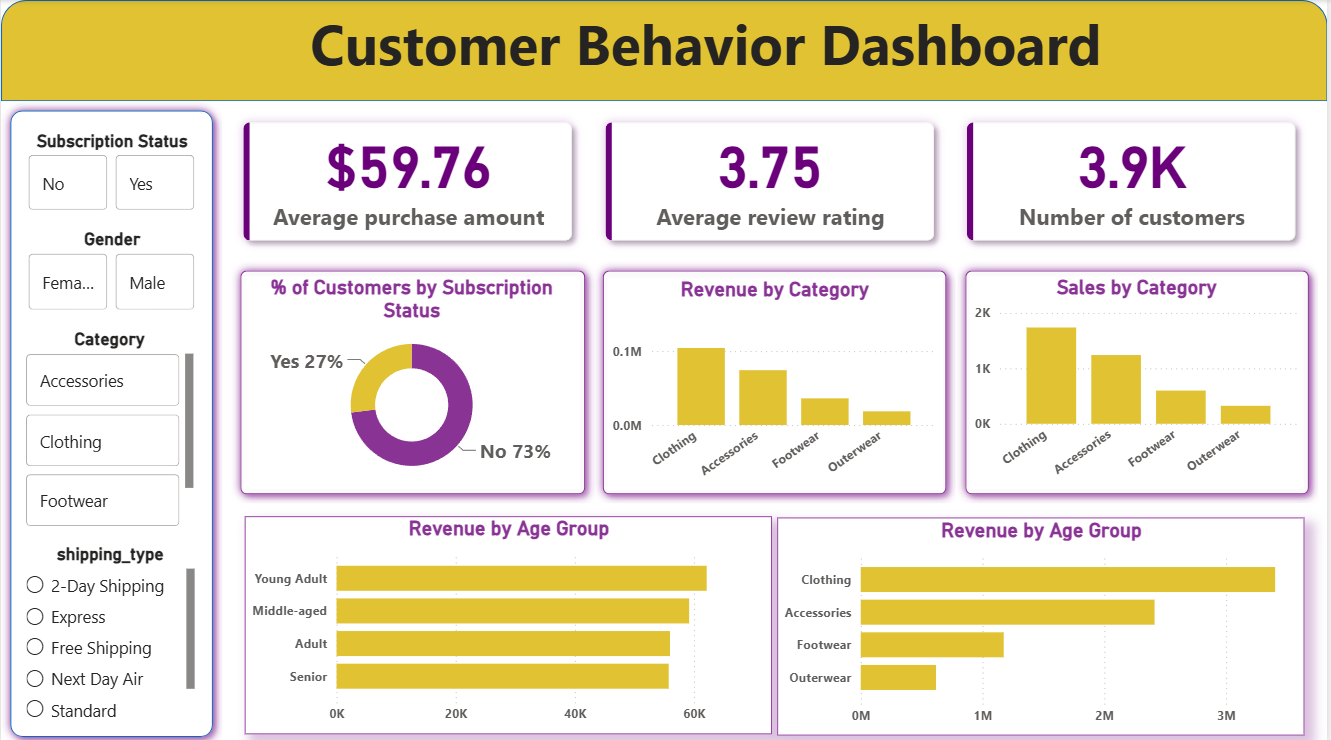

What the dashboard file says about the page in this screenshot:
{"tool":"powerbi","page":{"name":"Page 1","canvas":[1280,720],"ordinal":0},"visuals":[{"type":"cardVisual","fields":{"Data":["customer_behavior customer_shopping.Average purchase amount","customer_behavior customer_shopping.Average review rating","customer_behavior customer_shopping.Number of customers"]},"box":[205.6,89.9,1074.7,172.3],"z":0},{"type":"shape","box":[0,0,1280.3,97.8],"z":1000},{"type":"textbox","box":[80.8,0,1199.2,89.3],"z":2000},{"type":"shape","box":[221.6,252.4,350.8,233.9],"z":3000},{"type":"donutChart","title":"% of  Customers by Subscription Status","fields":{"Category":["customer_behavior customer_shopping.subscription_status"],"Y":["CountNonNull(customer_behavior customer_shopping.customer_id)"]},"box":[233.9,267.1,325,205.6],"z":4000},{"type":"shape","box":[922,252.4,349.6,233.9],"z":5000},{"type":"shape","box":[572.4,252.4,349.6,233.9],"z":6000},{"type":"clusteredColumnChart","title":"Revenue by Category","fields":{"Y":["Sum(customer_behavior customer_shopping.purchase_amount)"],"Category":["customer_behavior customer_shopping.category"]},"box":[584.7,268.4,323.8,205.6],"z":7000},{"type":"shape","box":[0,97.7,213.5,622.5],"z":8000},{"type":"advancedSlicerVisual","title":"Subscription Status","fields":{"Values":["customer_behavior customer_shopping.subscription_status"]},"box":[22.2,125.6,171.1,82.5],"z":9000},{"type":"advancedSlicerVisual","title":"Gender","fields":{"Values":["customer_behavior customer_shopping.gender"]},"box":[22.2,220.4,171.1,83.7],"z":10000},{"type":"advancedSlicerVisual","title":"Category","fields":{"Values":["customer_behavior customer_shopping.category"]},"box":[19.7,317.6,171.1,195.7],"z":11000},{"type":"clusteredColumnChart","title":"Sales by Category","fields":{"Y":["CountNonNull(customer_behavior customer_shopping.customer_id)"],"Category":["customer_behavior customer_shopping.category"]},"box":[935.6,267.1,322.5,205.6],"z":11001},{"type":"listSlicer","fields":{"Values":["customer_behavior customer_shopping.shipping_type"]},"box":[18.5,524.4,174.8,174.8],"z":11002},{"type":"clusteredBarChart","title":"Revenue by Age Group","fields":{"Y":["Sum(customer_behavior customer_shopping.purchase_amount)"],"Category":["customer_behavior customer_shopping.age_group"]},"box":[235.1,498.6,508.4,210.5],"z":11003},{"type":"clusteredBarChart","title":"Revenue by Age Group","fields":{"Y":["Sum(customer_behavior customer_shopping.customer_id)"],"Category":["customer_behavior customer_shopping.category"]},"box":[749.7,499.8,508.4,210.5],"z":11004}]}

Visuals, with their boxes in screenshot pixels (x1, y1, x2, y2), scaled from the page's 1280x720 canvas onto the 1331x740 screenshot:
cardVisual - customer_behavior customer_shopping.Average purchase amount x customer_behavior customer_shopping.Average review rating: Rect(214, 92, 1330, 269)
shape: Rect(0, 0, 1330, 101)
textbox: Rect(84, 0, 1330, 92)
shape: Rect(230, 259, 595, 500)
"% of  Customers by Subscription Status" donutChart: Rect(243, 275, 581, 486)
shape: Rect(959, 259, 1322, 500)
shape: Rect(595, 259, 959, 500)
"Revenue by Category" clusteredColumnChart: Rect(608, 276, 945, 487)
shape: Rect(0, 100, 222, 739)
"Subscription Status" advancedSlicerVisual: Rect(23, 129, 201, 214)
"Gender" advancedSlicerVisual: Rect(23, 227, 201, 313)
"Category" advancedSlicerVisual: Rect(20, 326, 198, 528)
"Sales by Category" clusteredColumnChart: Rect(973, 275, 1308, 486)
listSlicer - customer_behavior customer_shopping.shipping_type: Rect(19, 539, 201, 719)
"Revenue by Age Group" clusteredBarChart: Rect(244, 512, 773, 729)
"Revenue by Age Group" clusteredBarChart: Rect(780, 514, 1308, 730)
